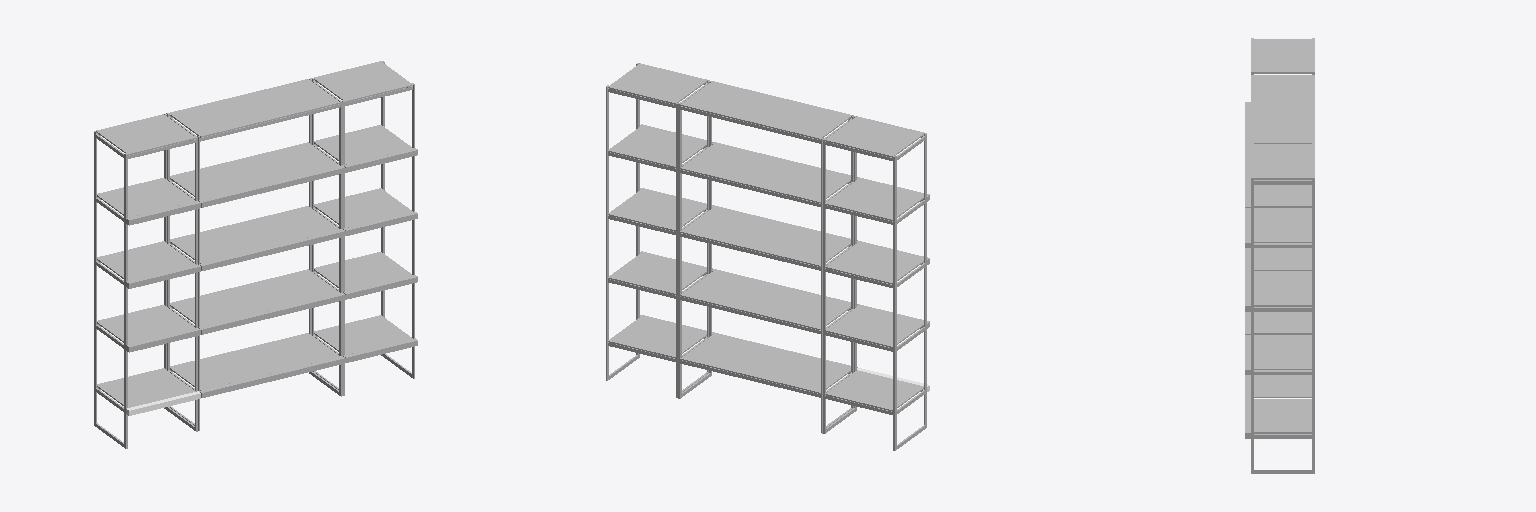
The picture shows the model from 3 angles: view 1: azimuth 30°, elevation 25°; view 2: azimuth 150°, elevation 25°; view 3: azimuth 270°, elevation 25°; orthographic projection.
Parts seen in each view (by area): view 1: 货架4, 指示灯11, 指示灯5, 指示灯8, 指示灯2, 指示灯1, 指示灯4, 指示灯7, 指示灯10, 指示灯6, 指示灯3, 指示灯9 (+1 smaller); view 2: 货架4; view 3: 货架4.
Boxes of the visible parts, box(x1,y1,x2,y2) form: 货架4: box(94, 61, 414, 448); 指示灯11: box(199, 165, 345, 207); 指示灯5: box(199, 292, 345, 334); 指示灯8: box(199, 229, 345, 270); 指示灯2: box(199, 356, 345, 397); 指示灯1: box(126, 391, 200, 415); 指示灯4: box(126, 328, 200, 352); 指示灯7: box(126, 264, 200, 288); 指示灯10: box(126, 201, 200, 225); 指示灯6: box(343, 275, 417, 299); 指示灯3: box(343, 338, 417, 362); 指示灯9: box(343, 211, 417, 235); 货架4: box(606, 63, 926, 450); 货架4: box(1251, 38, 1314, 473).
Bounding box in the file's own units: 13.08 × 12.73 × 2.77.